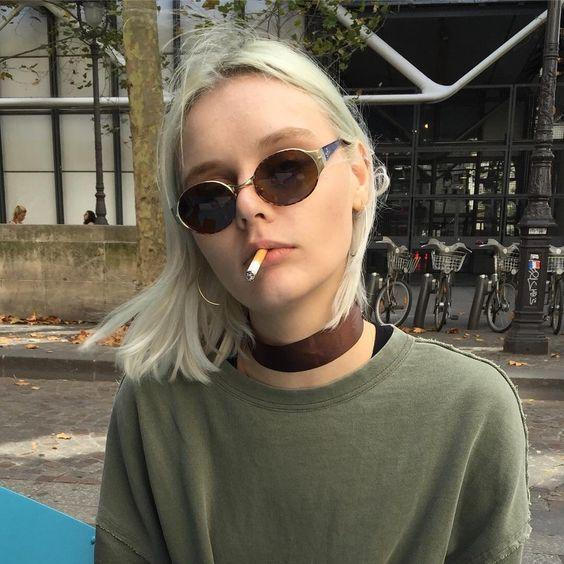cigarette: (245, 249, 269, 281)
